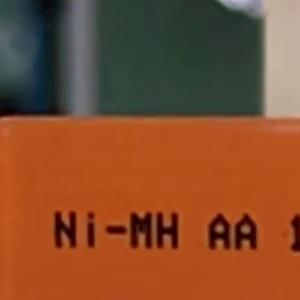NI-MH: (44, 203, 188, 258)
